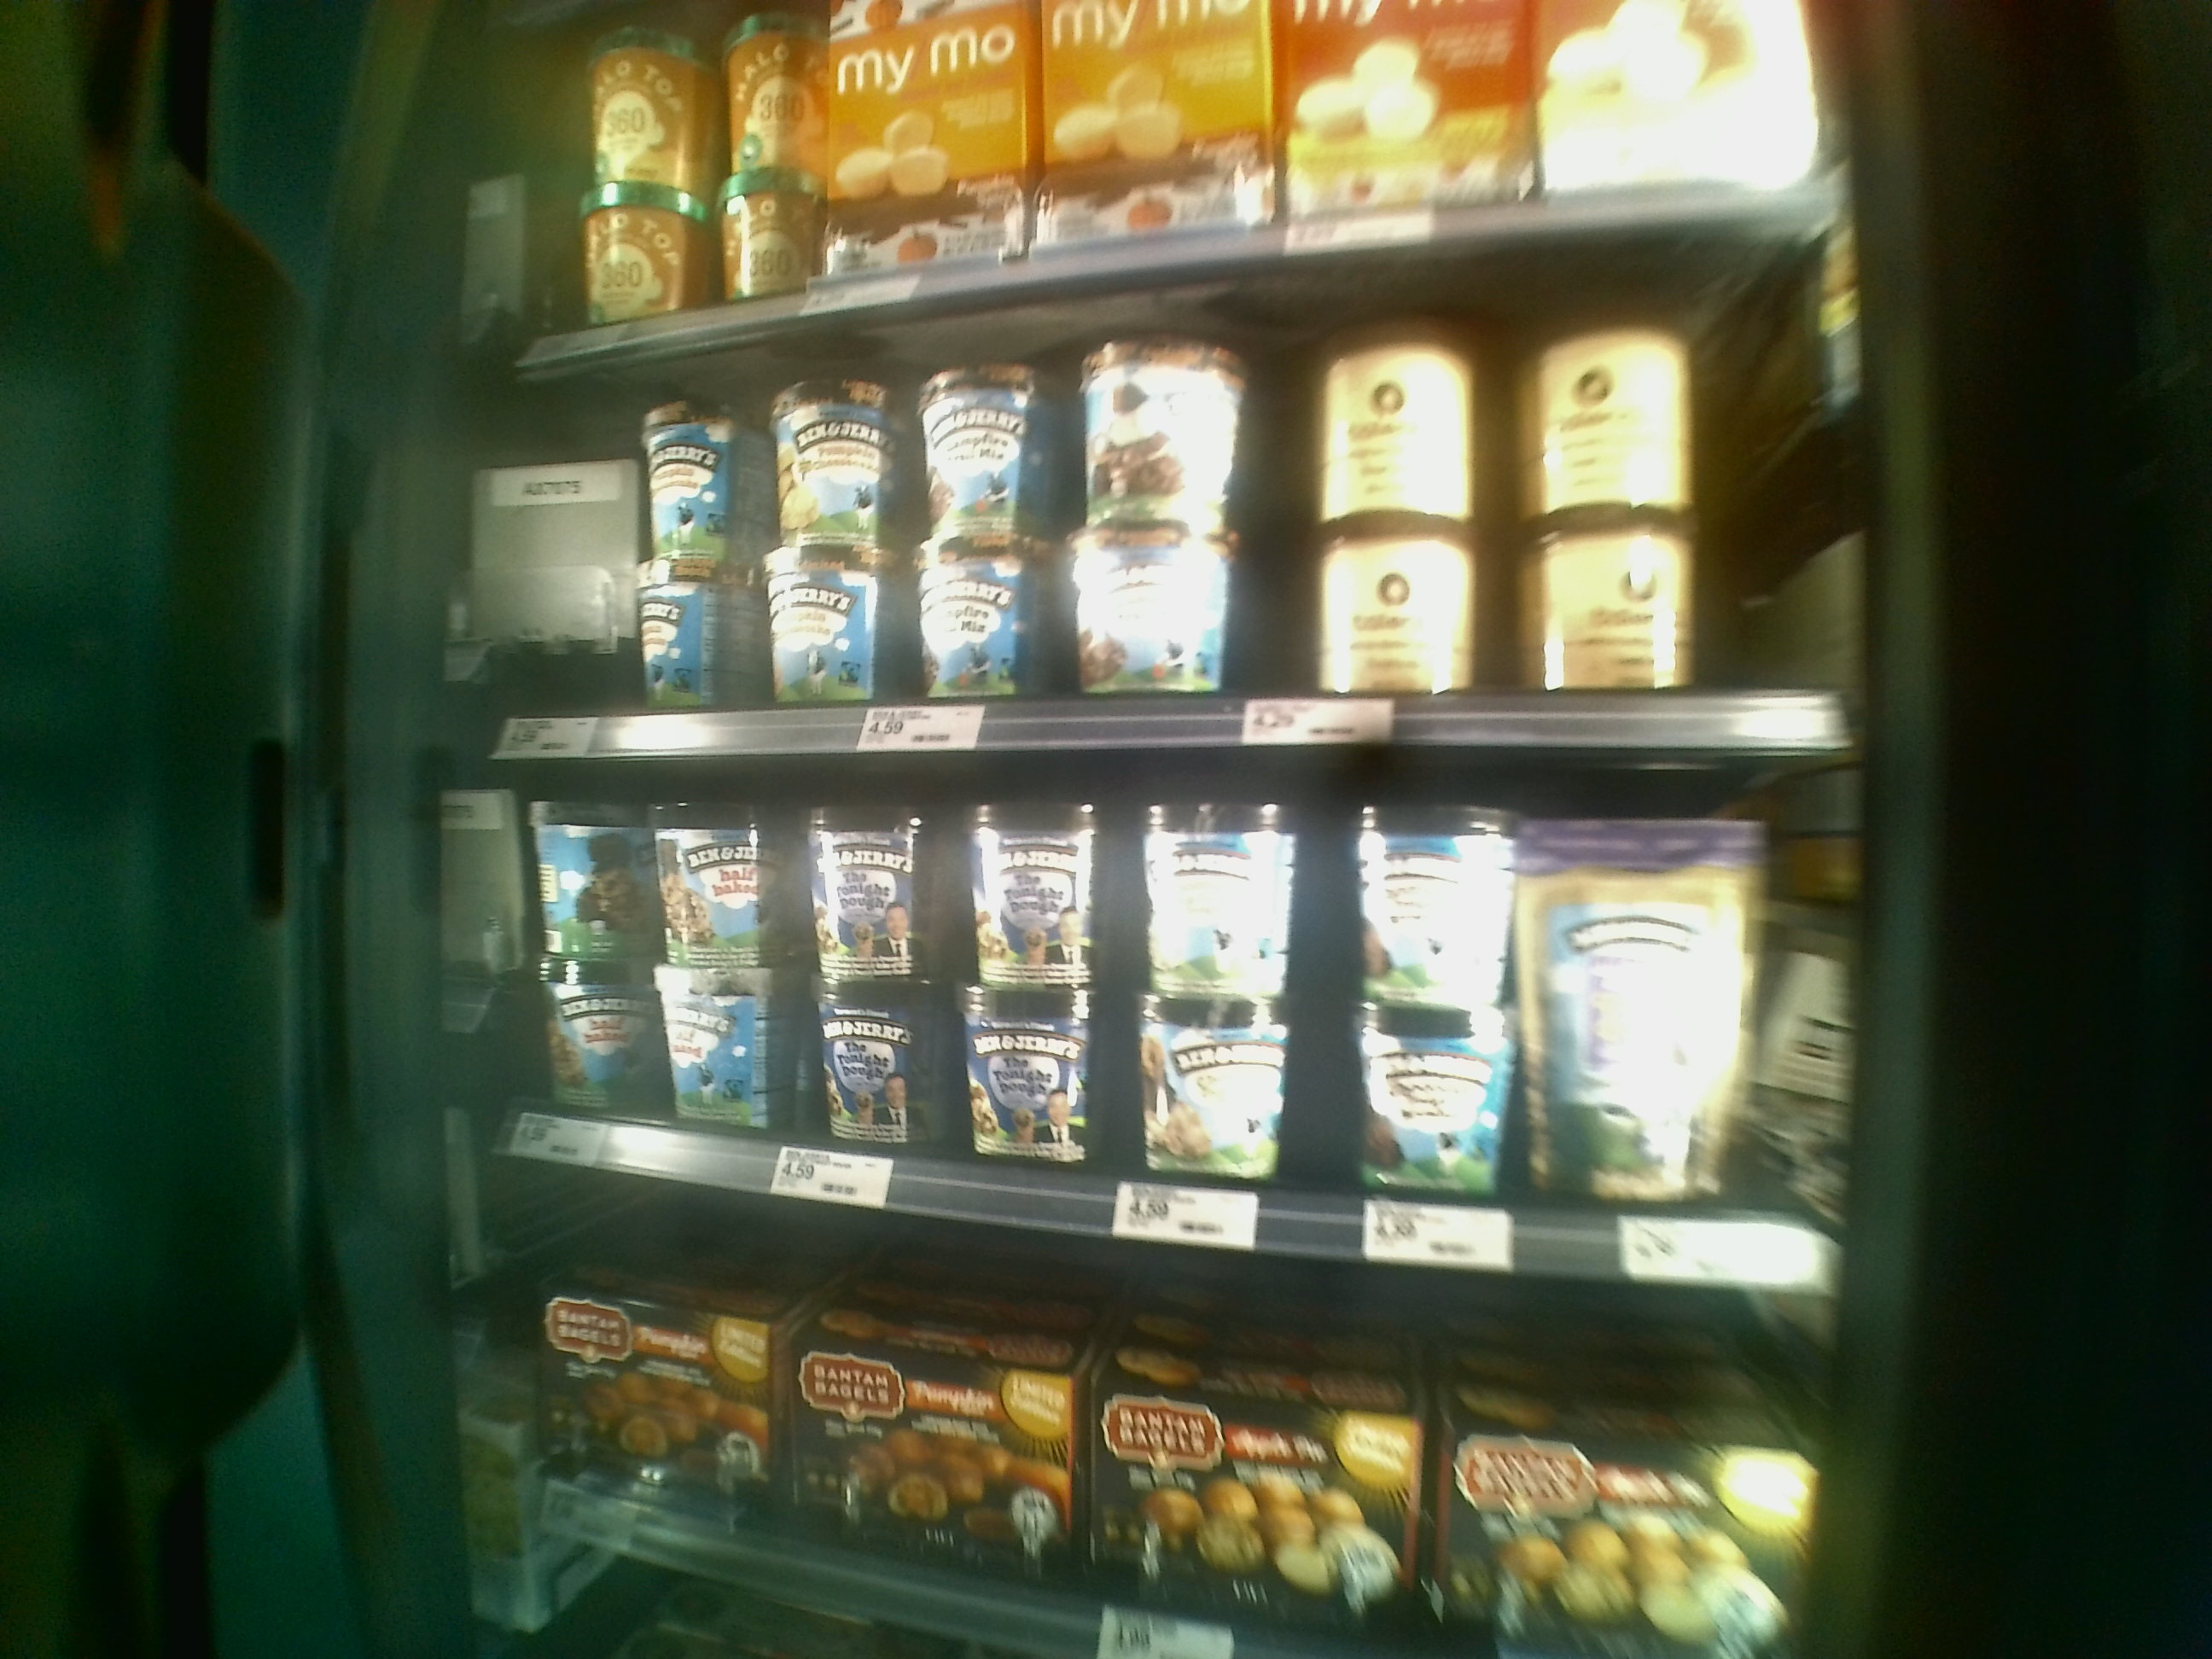shelf: (439, 748, 1838, 1288), (465, 308, 1881, 775)
